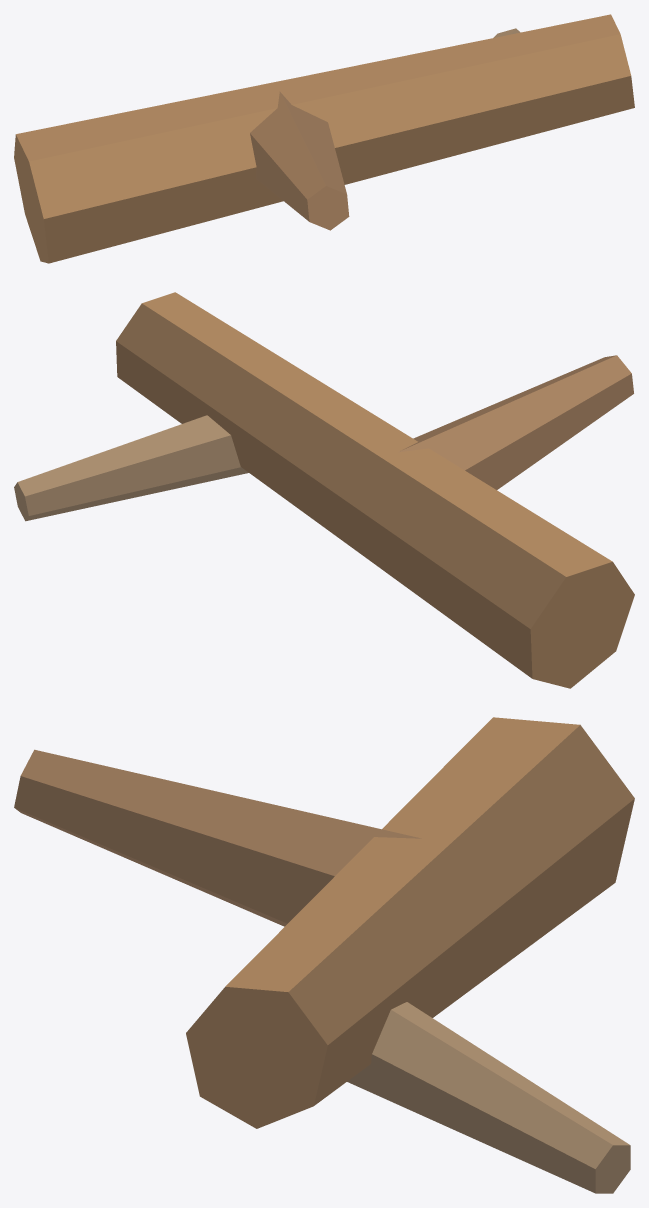
Rendered from find_driftwood.glb.
The picture shows the model from 3 angles, top to bottom: view 1: azimuth 30°, elevation 25°; view 2: azimuth 150°, elevation 25°; view 3: azimuth 270°, elevation 25°; orthographic projection. The views are drawn at different scales.
Parts seen in each view (by area): view 1: Muschelbucht · Treibholz; view 2: Muschelbucht · Treibholz; view 3: Muschelbucht · Treibholz.
Boxes of the visible parts, box(x1,y1,x2,y2) form: Muschelbucht · Treibholz: box(14, 14, 634, 263); Muschelbucht · Treibholz: box(14, 292, 634, 688); Muschelbucht · Treibholz: box(14, 717, 634, 1193).
Size of the model in its own units: 0.7447 by 0.2476 by 0.488.
